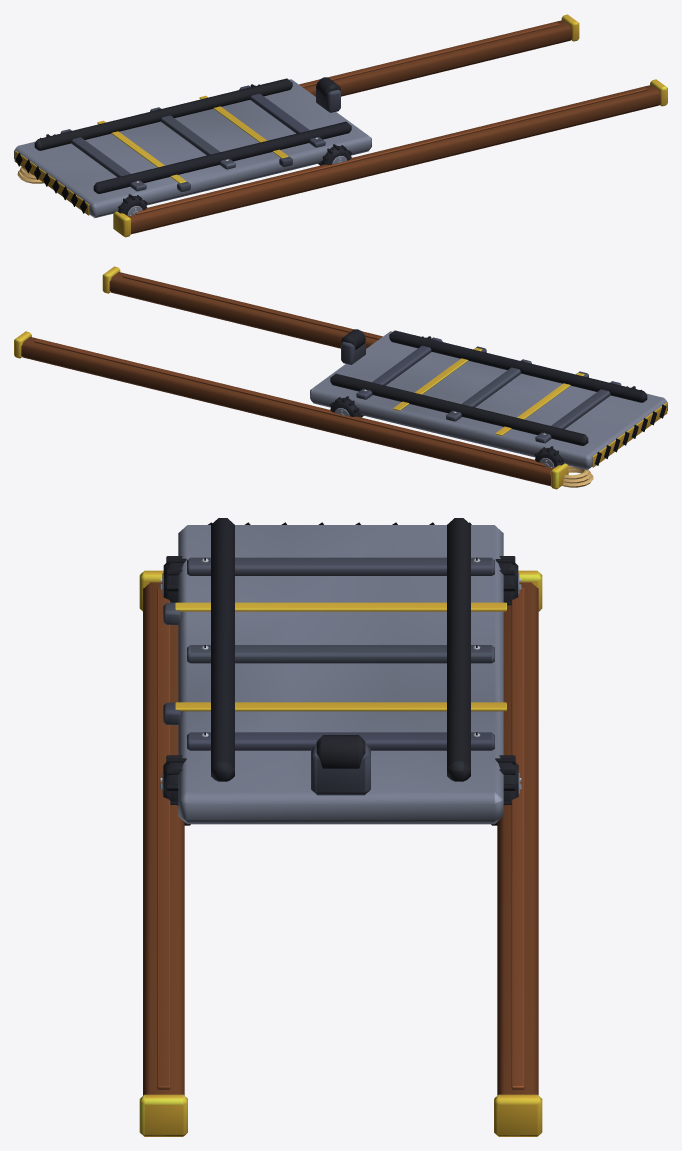
The model's file is SM_Prop_RescueBoat_Slipway.fbx.
3 renders of one model, top to bottom at view 1: azimuth 30°, elevation 25°; view 2: azimuth 150°, elevation 25°; view 3: azimuth 270°, elevation 25°, orthographic. The views are drawn at different scales.
Visible parts, largest first — view 1: SM_Prop_RescueBoat_Slipway; view 2: SM_Prop_RescueBoat_Slipway; view 3: SM_Prop_RescueBoat_Slipway.
Part boxes in pixels (x1,y1,x2,y2): SM_Prop_RescueBoat_Slipway: (14, 14, 667, 237); SM_Prop_RescueBoat_Slipway: (14, 266, 667, 489); SM_Prop_RescueBoat_Slipway: (139, 518, 542, 1136).
Bounding box in the file's own units: 444 × 44.4 × 136.
